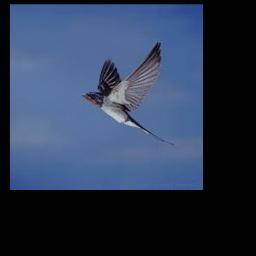Swallow: (83, 41, 174, 145)
